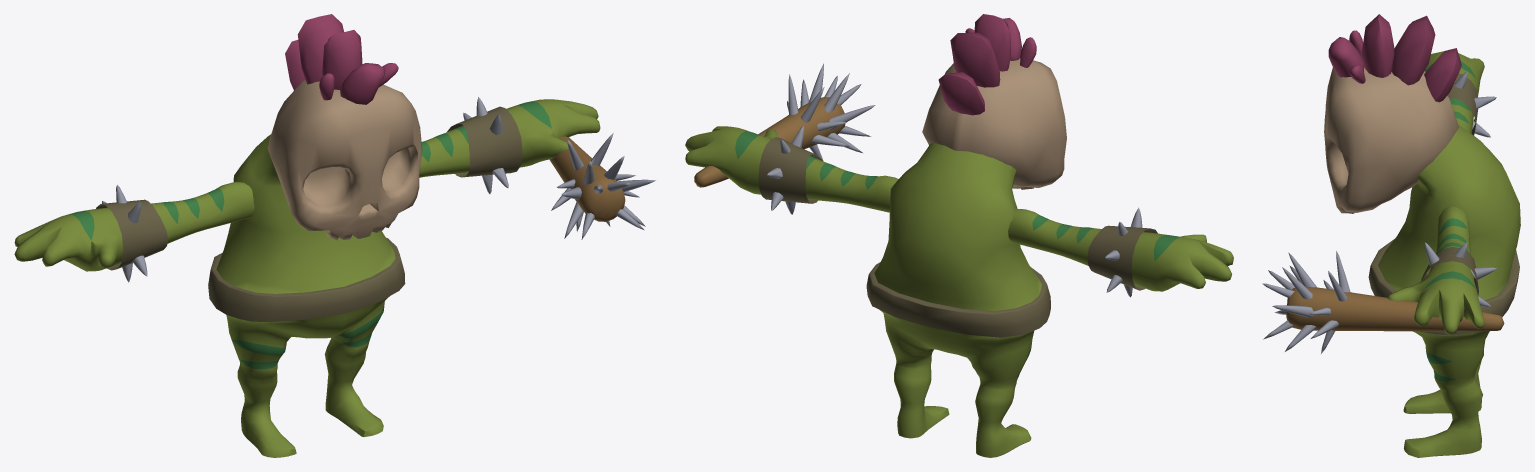
Rendered from orc_skull.glb.
3 renders of one model, left to right at view 1: azimuth 30°, elevation 25°; view 2: azimuth 150°, elevation 25°; view 3: azimuth 270°, elevation 25°, orthographic. The views are drawn at different scales.
Visible parts, largest first — view 1: Orc_Skull, Orc_Weapon; view 2: Orc_Skull, Orc_Weapon; view 3: Orc_Skull, Orc_Weapon.
Boxes of the visible parts, x1,y1,x2,y2 form: Orc_Skull: (14,14,600,457); Orc_Weapon: (549,133,655,239); Orc_Skull: (685,14,1233,457); Orc_Weapon: (694,63,875,187); Orc_Skull: (1324,14,1520,457); Orc_Weapon: (1262,251,1504,353).
Size of the model in its own units: 4.69 by 3.27 by 1.86.
1 material, 1 textured.
